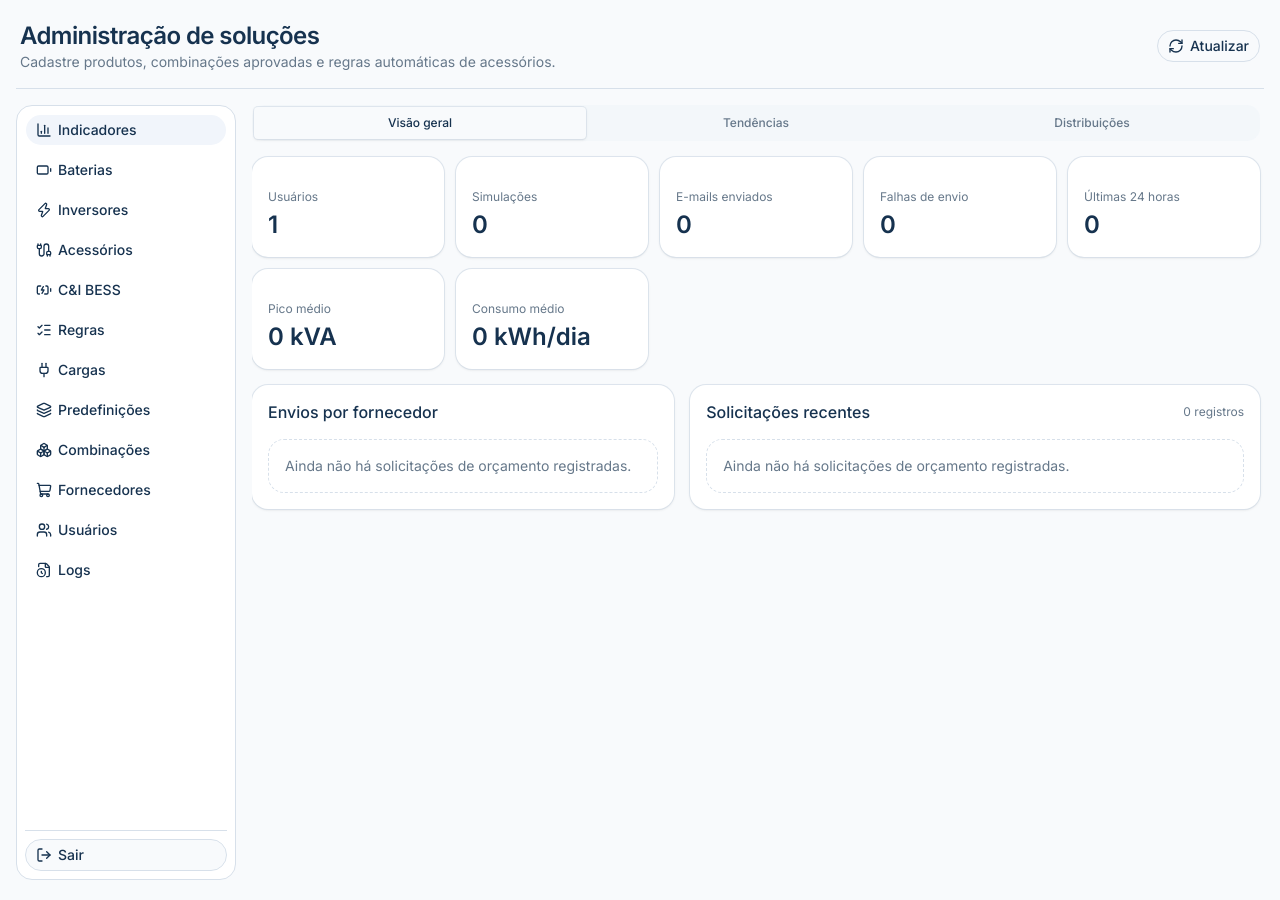
Test case: AdminPanel: tab navigation and lazy loading › fetches a tab's resources only the first time it is visited
Click the button "Baterias" at (126, 170), box left=25, top=154, right=227, bottom=186
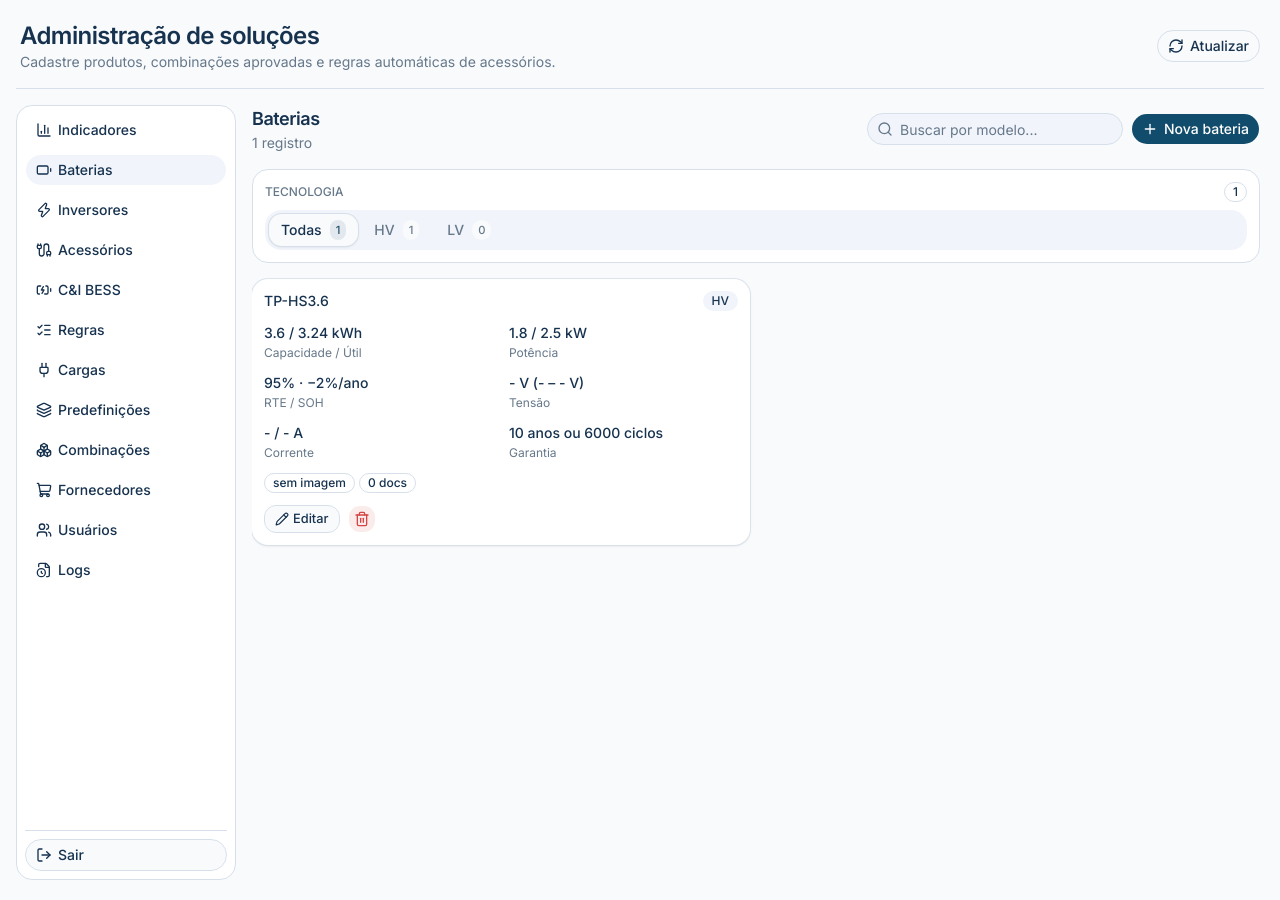
Now the text "TP-HS3.6" is shown, box left=264, top=291, right=329, bottom=310
Click the button "Indicadores" at (126, 130), box left=25, top=114, right=227, bottom=146
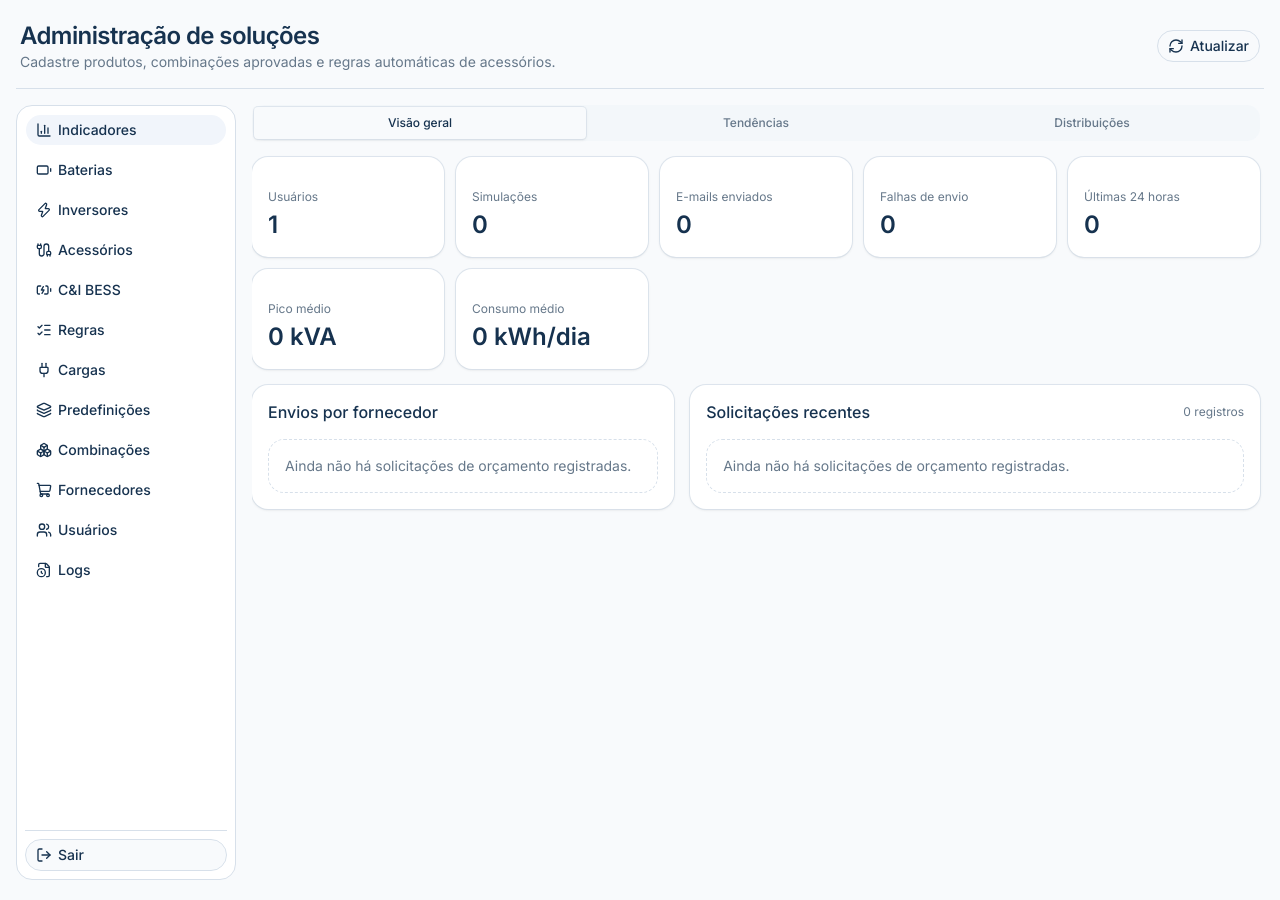
Click the button "Baterias" at (126, 170), box left=25, top=154, right=227, bottom=186
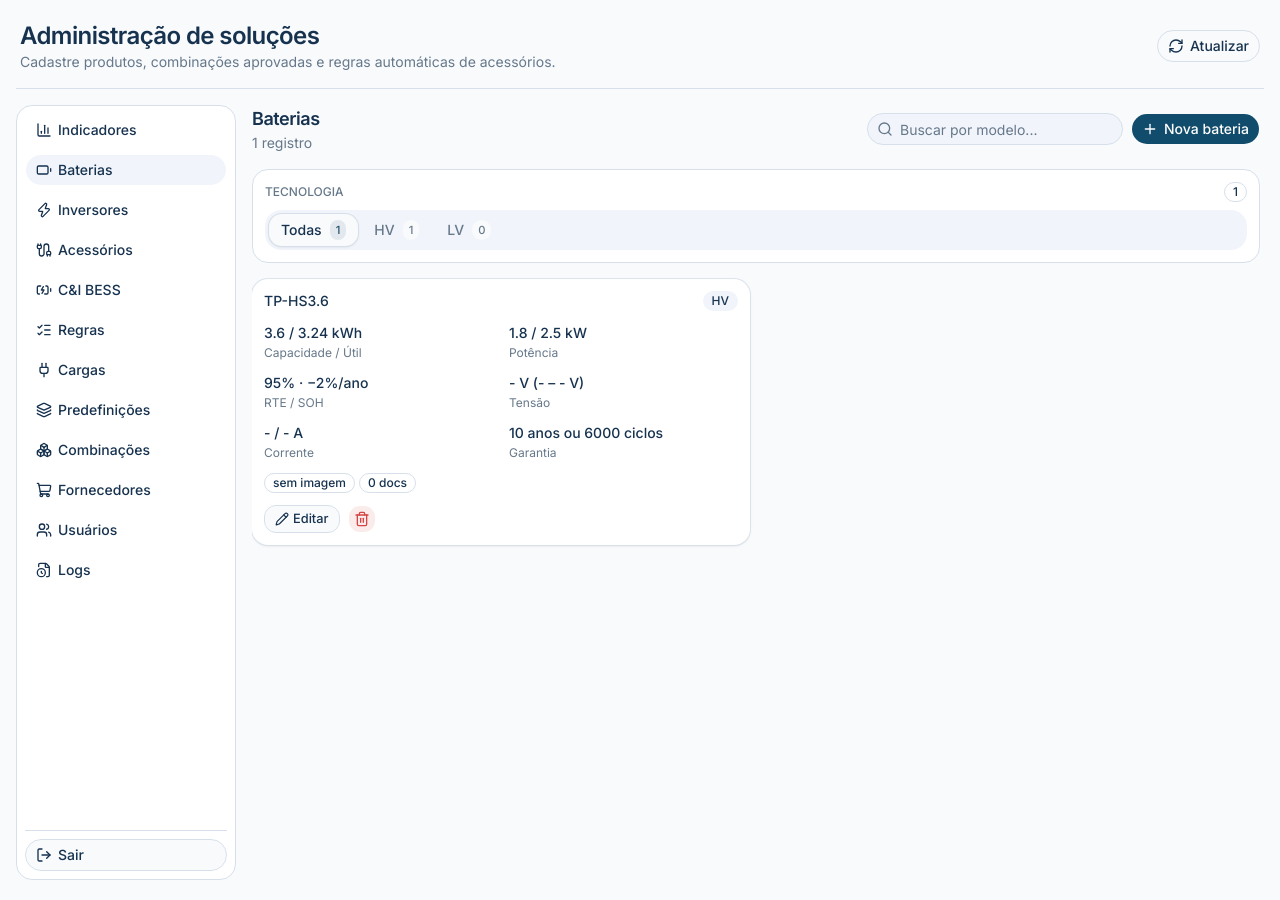
Now the text "TP-HS3.6" is shown, box left=264, top=291, right=329, bottom=310
